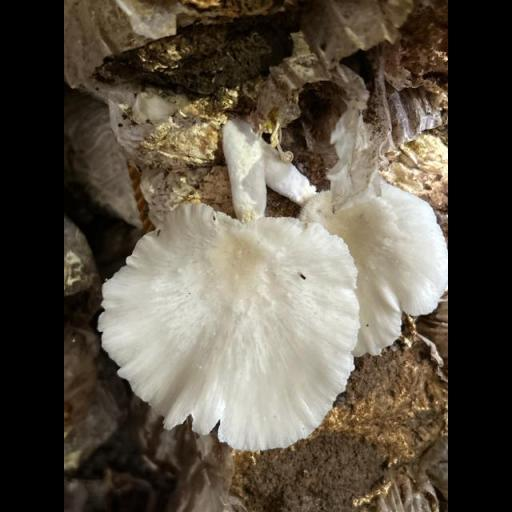White Oyster Mushroom: (88, 128, 450, 454)
